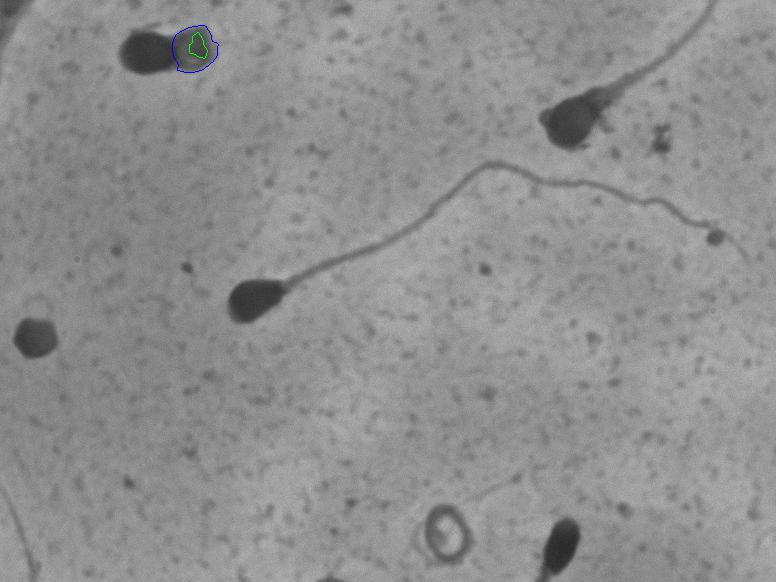Abnormal: (208, 141, 760, 341)
